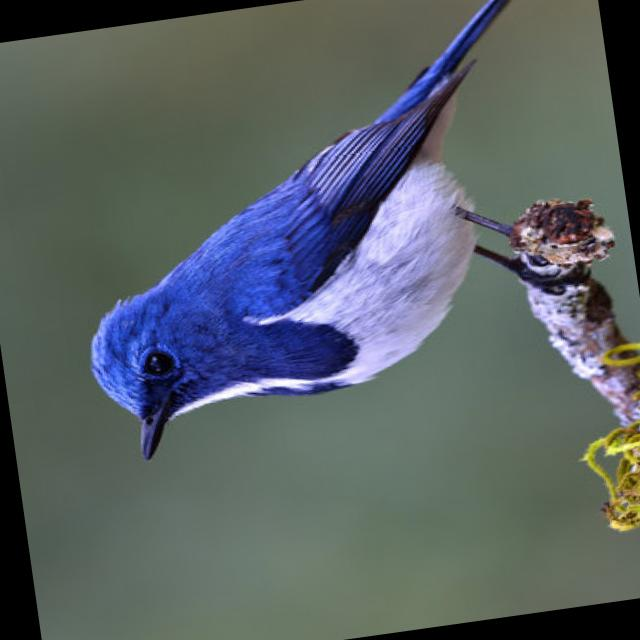Birds: (32, 114, 556, 487)
